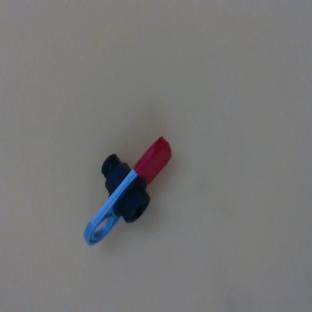part_1_good: (69, 119, 177, 260)
